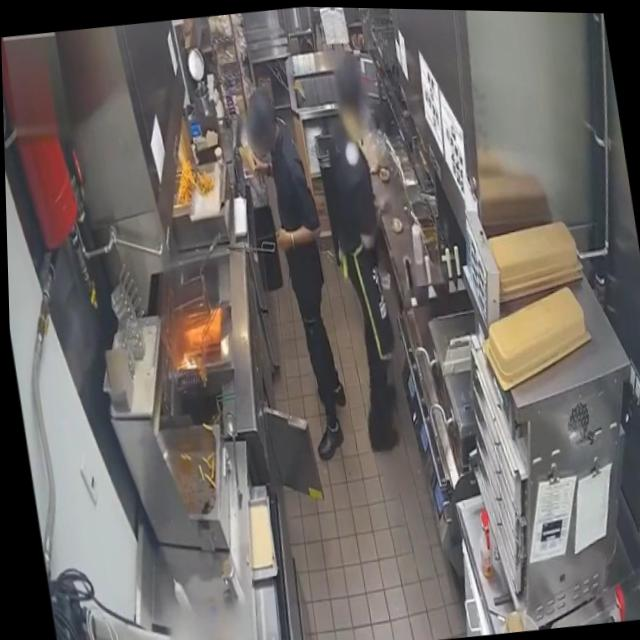fire: (171, 345, 196, 370)
